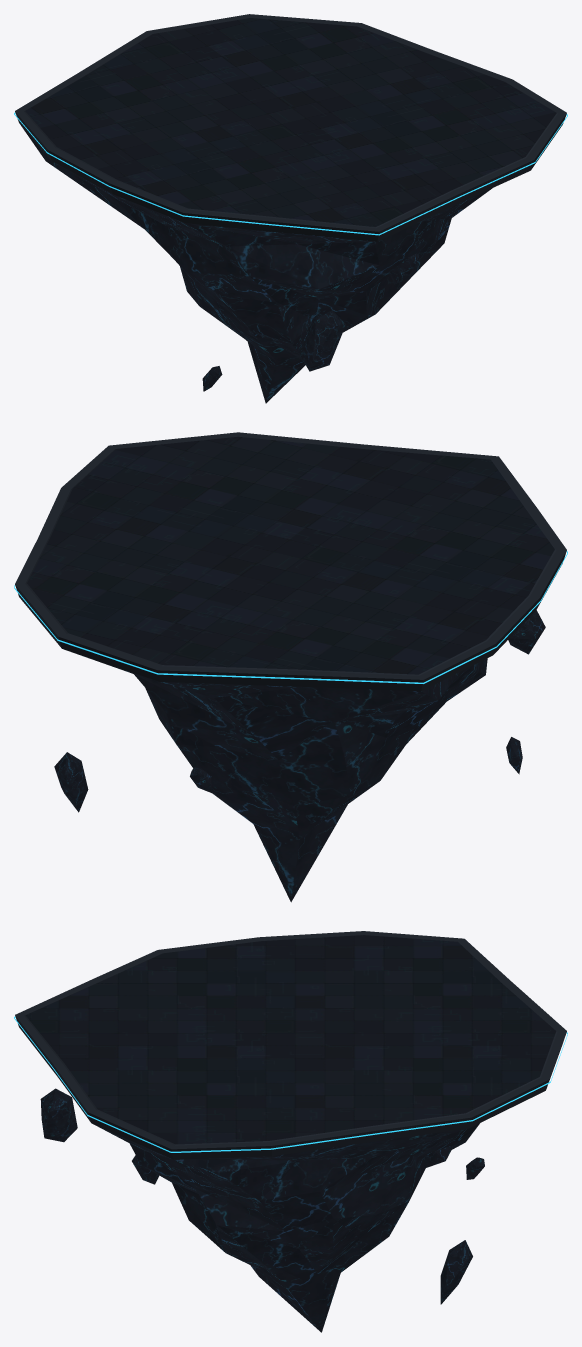
File: ch2-island-l.glb
The picture shows the model from 3 angles, top to bottom: view 1: azimuth 30°, elevation 25°; view 2: azimuth 150°, elevation 25°; view 3: azimuth 270°, elevation 25°; orthographic projection. The views are drawn at different scales.
Visible parts, largest first — view 1: deck.002, shard_1.002, edge.002; view 2: deck.002, shard_6, edge.002, shard_1.002; view 3: deck.002, shard_1.002, edge.002, shard_6.
Part boxes in pixels (left/top/right/bottom): deck.002: left=15, top=14, right=566, bottom=403; shard_1.002: left=300, top=310, right=345, bottom=371; edge.002: left=14, top=112, right=567, bottom=235; deck.002: left=15, top=432, right=566, bottom=902; shard_6: left=54, top=752, right=88, bottom=812; edge.002: left=14, top=551, right=567, bottom=683; shard_1.002: left=508, top=610, right=545, bottom=654; deck.002: left=15, top=931, right=566, bottom=1332; shard_1.002: left=40, top=1088, right=77, bottom=1142; edge.002: left=14, top=1016, right=567, bottom=1152; shard_6: left=440, top=1240, right=472, bottom=1304.
Size of the model in its own units: 17.57 by 11.28 by 18.78.
4 materials, 2 textured.
